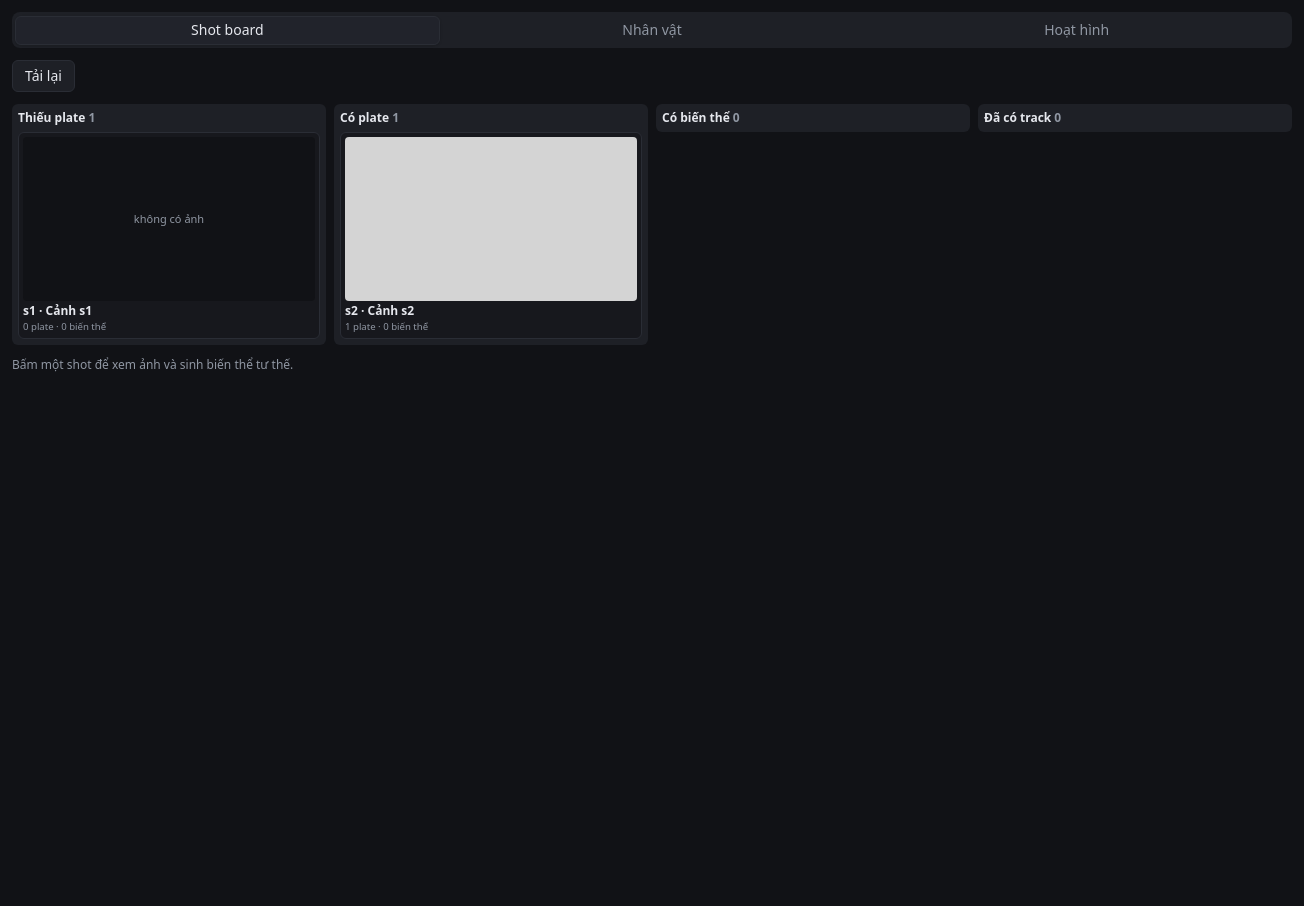
Anime tab › without a manifest, picking a shot does not touch the timeline
Click the button "không có ảnh s1 · Cảnh s1 0 plate · 0 biến thể" at (169, 236), box [18, 132, 320, 339]
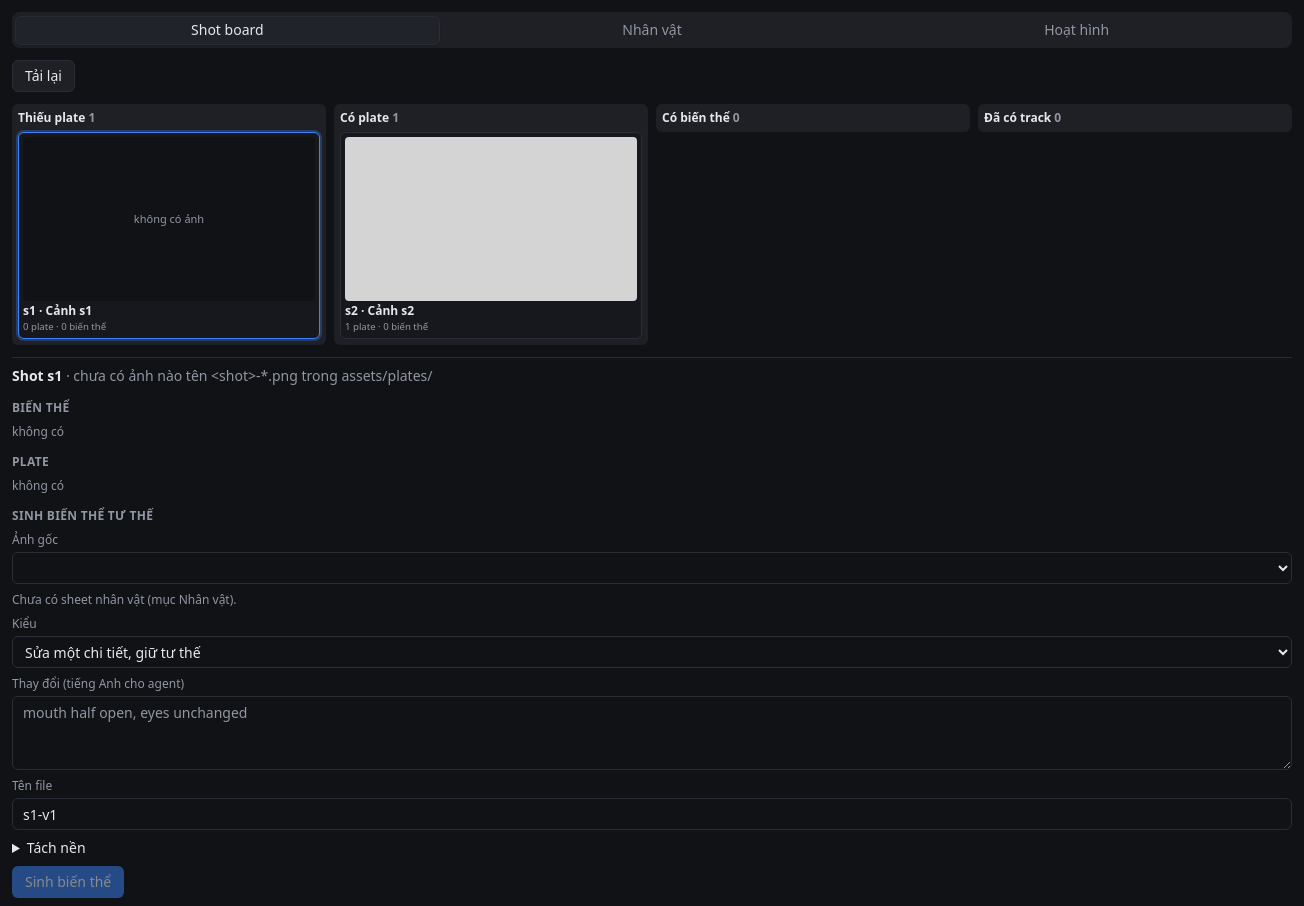
Expected: the heading "Shot s1" is shown, [12, 366, 62, 385]
Expected: the button "Sinh biến thể" is disabled, [12, 866, 124, 898]
